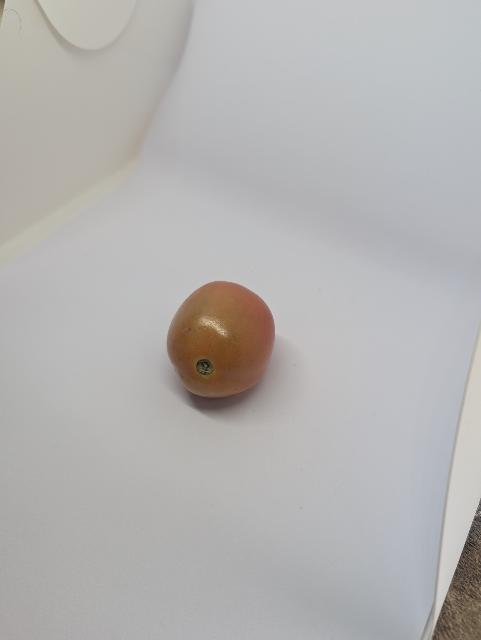turning: (164, 276, 280, 404)
